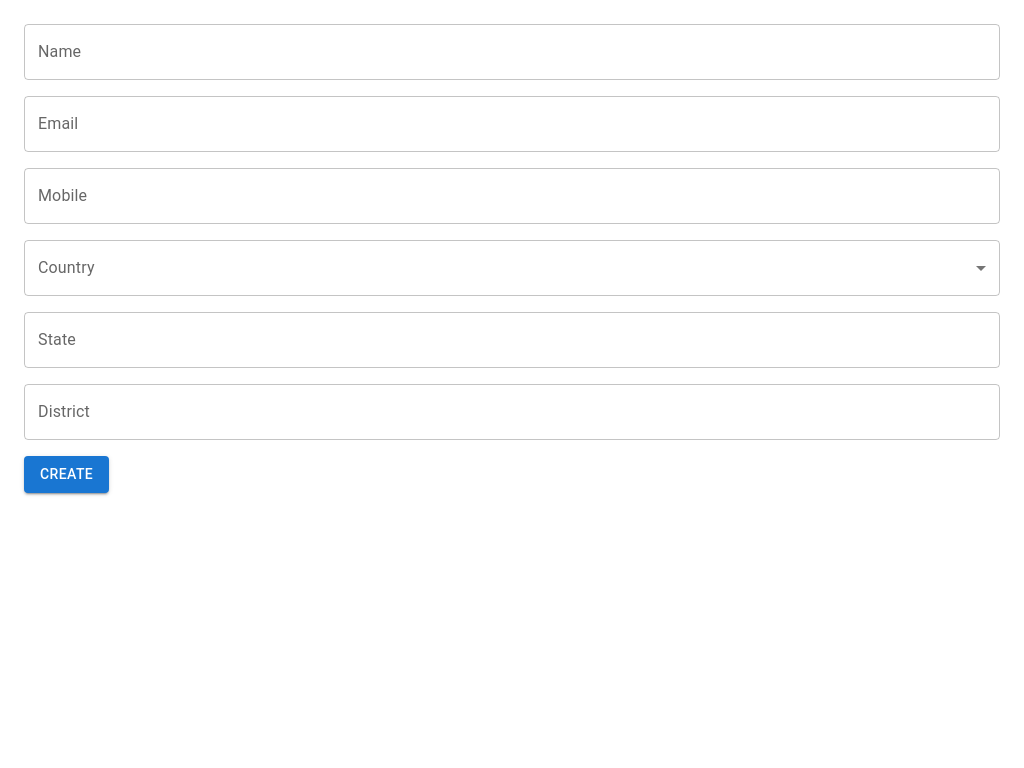
Scenario: EmployeeForm › does not submit when empty
Step 1. Click the button "Create" → click(67, 474), box [24,456,109,492]
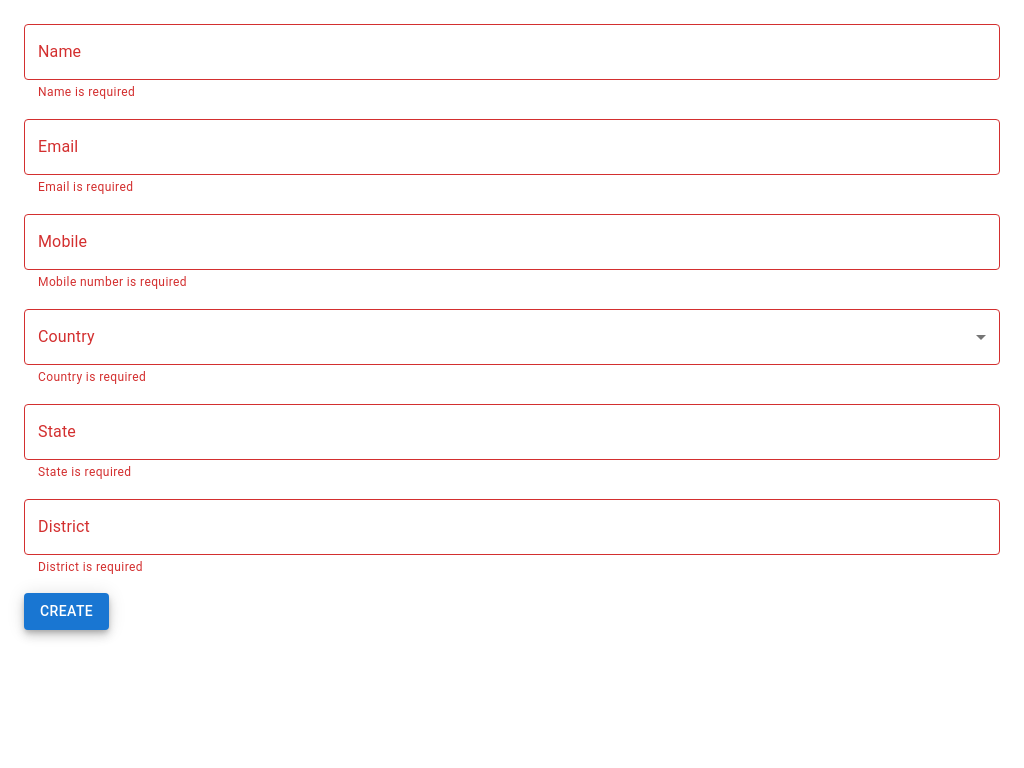
Expected: the text "Name is required" is shown, [38,85,135,99]
